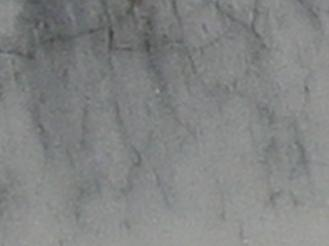fissura: (0, 0, 269, 60)
